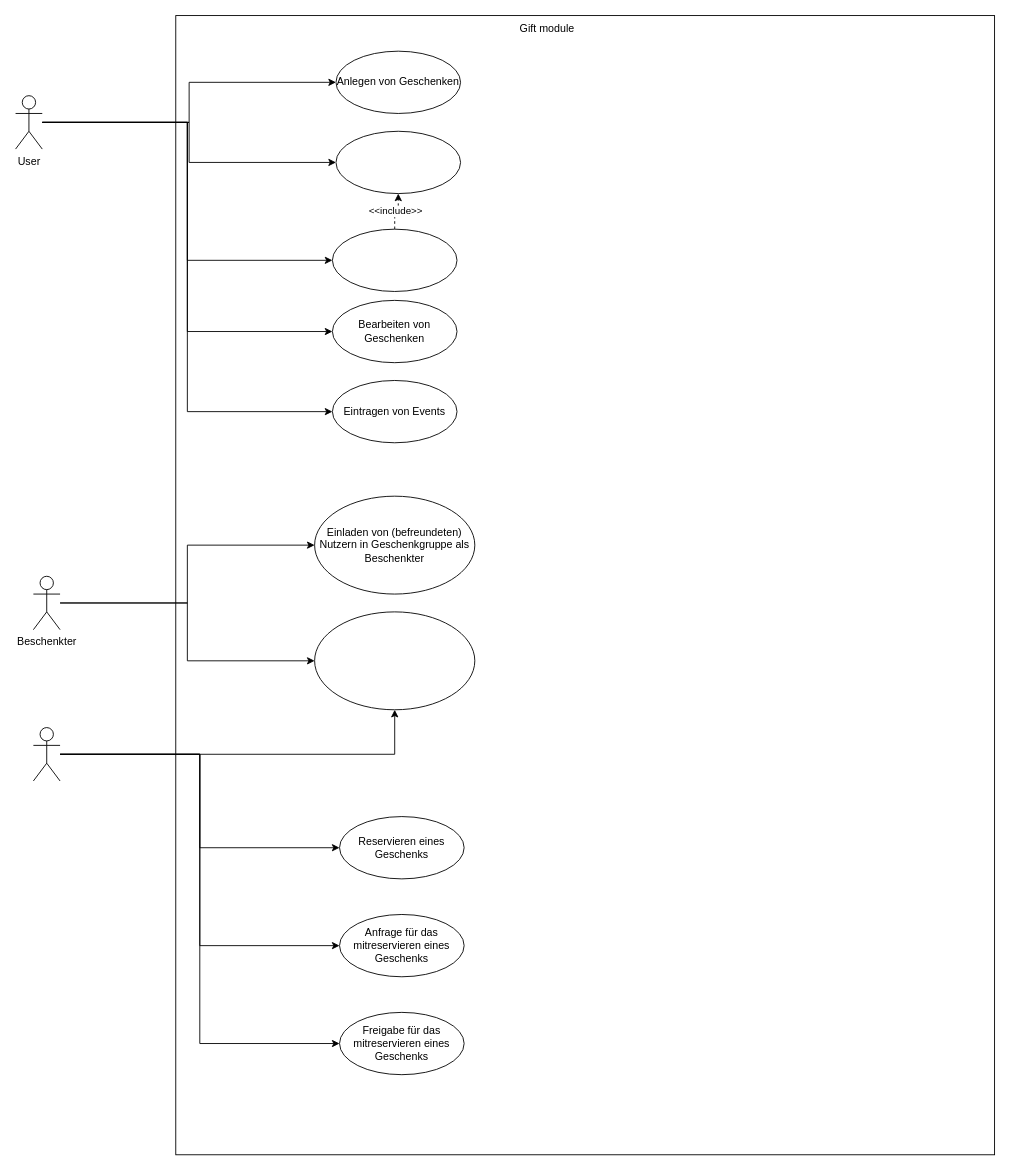
Image size: 1010x1170. Some labels were removed from this diagram. The box of each missing label's shape, as (x1, y1, x2, y2) in pixels:
Anlegen von Geschenkgruppen: (335, 130, 461, 194)
Einladen von (befreundeten) Nutzern in Geschenkgruppe als Schenkender: (314, 611, 475, 710)
Hinzufügen einer betreuten Person: (332, 228, 457, 291)
Schenkender: (32, 727, 60, 781)
